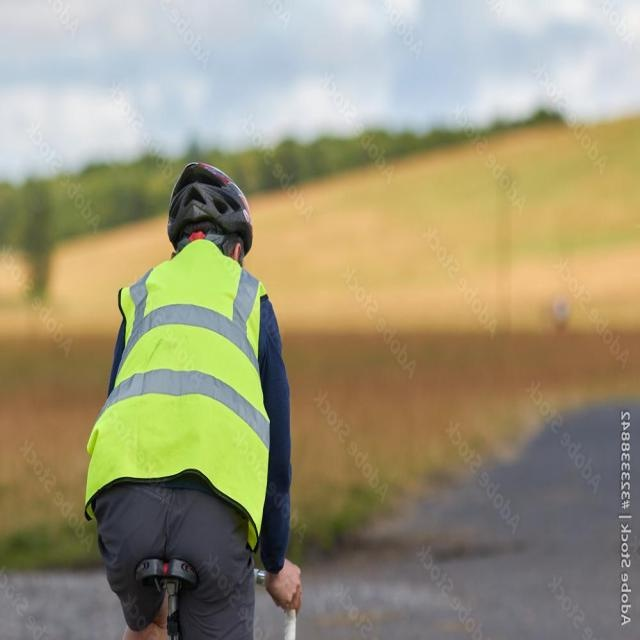Con_Chaleco: (98, 251, 281, 506)
